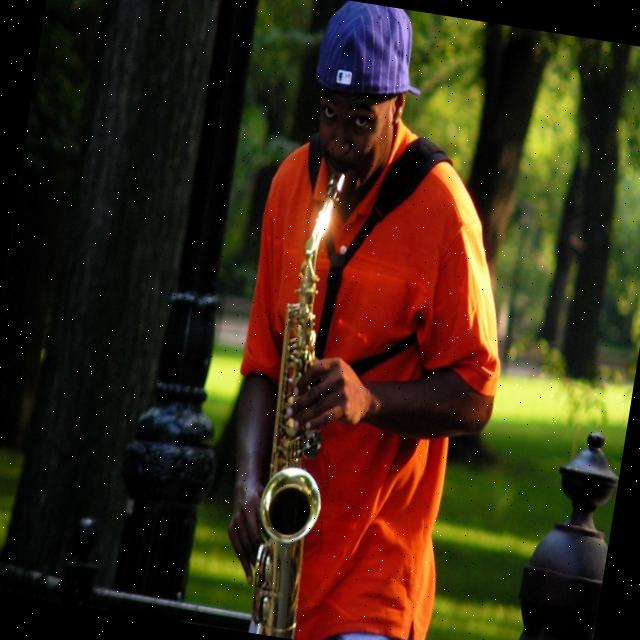saxophone: (235, 155, 376, 638)
